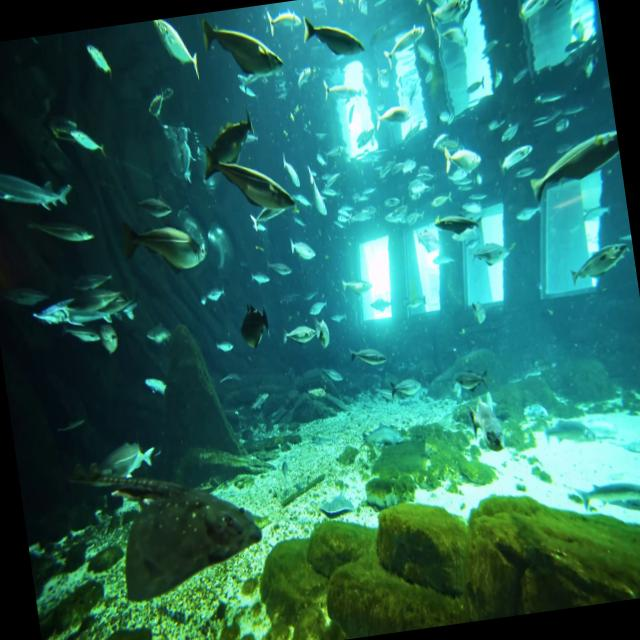fish: (198, 133, 298, 230), (521, 127, 625, 206), (201, 2, 290, 86), (120, 209, 213, 281), (0, 156, 79, 221), (297, 4, 364, 66), (156, 15, 204, 87)
